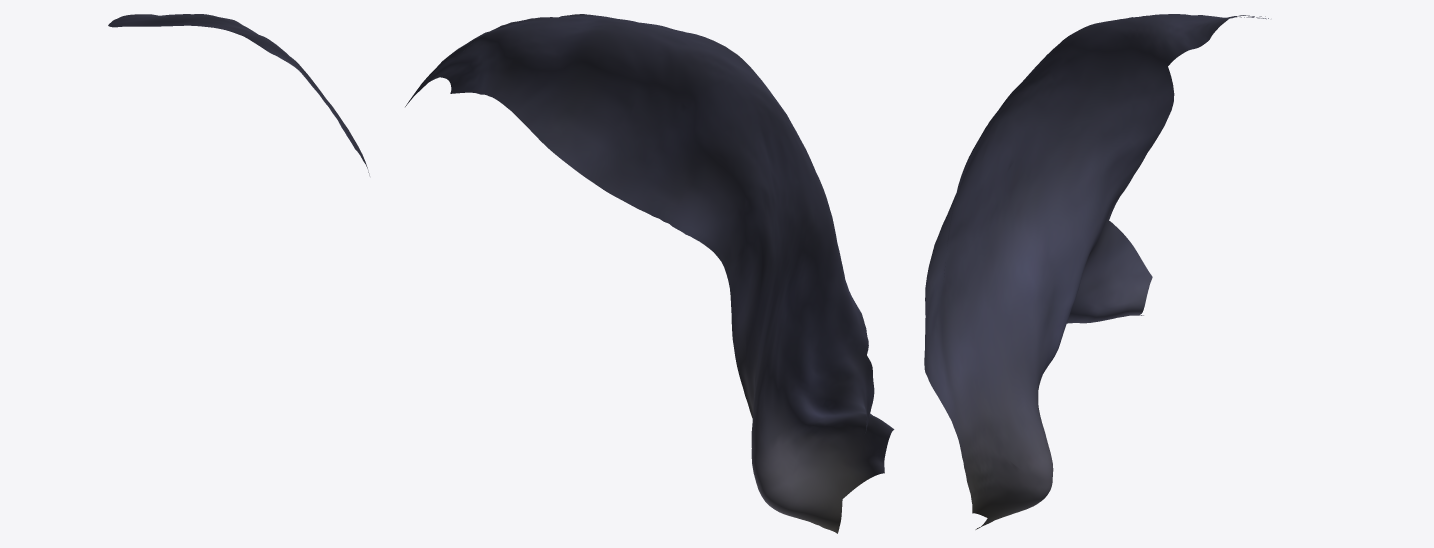
The model's file is Cloud_global_new_4.glb.
3 renders of one model, left to right at view 1: azimuth 30°, elevation 25°; view 2: azimuth 150°, elevation 25°; view 3: azimuth 270°, elevation 25°, orthographic. The views are drawn at different scales.
Visible parts, largest first — view 1: LOD0; view 2: LOD0; view 3: LOD0.
Part boxes in pixels (x1,y1,x2,y2): LOD0: (108,14,369,175); LOD0: (405,14,894,533); LOD0: (924,14,1268,529).
Size of what is drawn, in the model's own units: 1 by 1.22 by 0.959.
